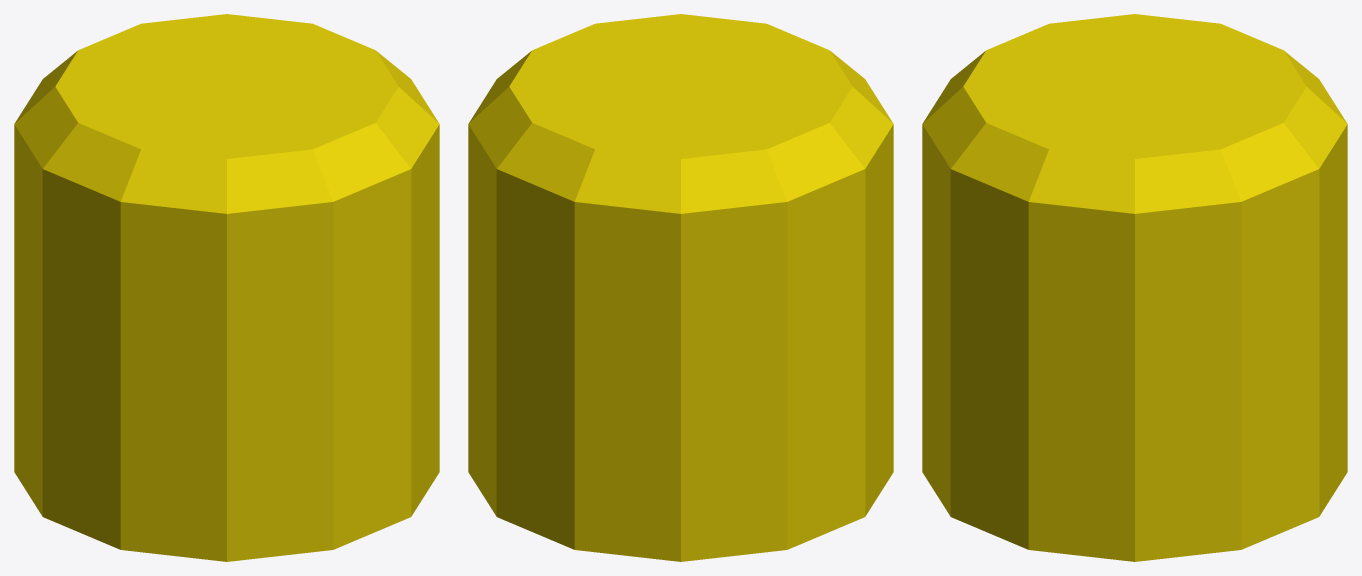
File: SM_Elevator_Button.fbx
3 views of the same model, side by side, from view 1: azimuth 30°, elevation 25°; view 2: azimuth 150°, elevation 25°; view 3: azimuth 270°, elevation 25° (orthographic).
Visible parts, largest first — view 1: Elevator_Button; view 2: Elevator_Button; view 3: Elevator_Button.
Boxes of the visible parts, x1,y1,x2,y2 form: Elevator_Button: [14, 14, 439, 561]; Elevator_Button: [468, 14, 893, 561]; Elevator_Button: [922, 14, 1347, 561].
Size of the model in its own units: 12.19 by 12.19 by 12.19.
